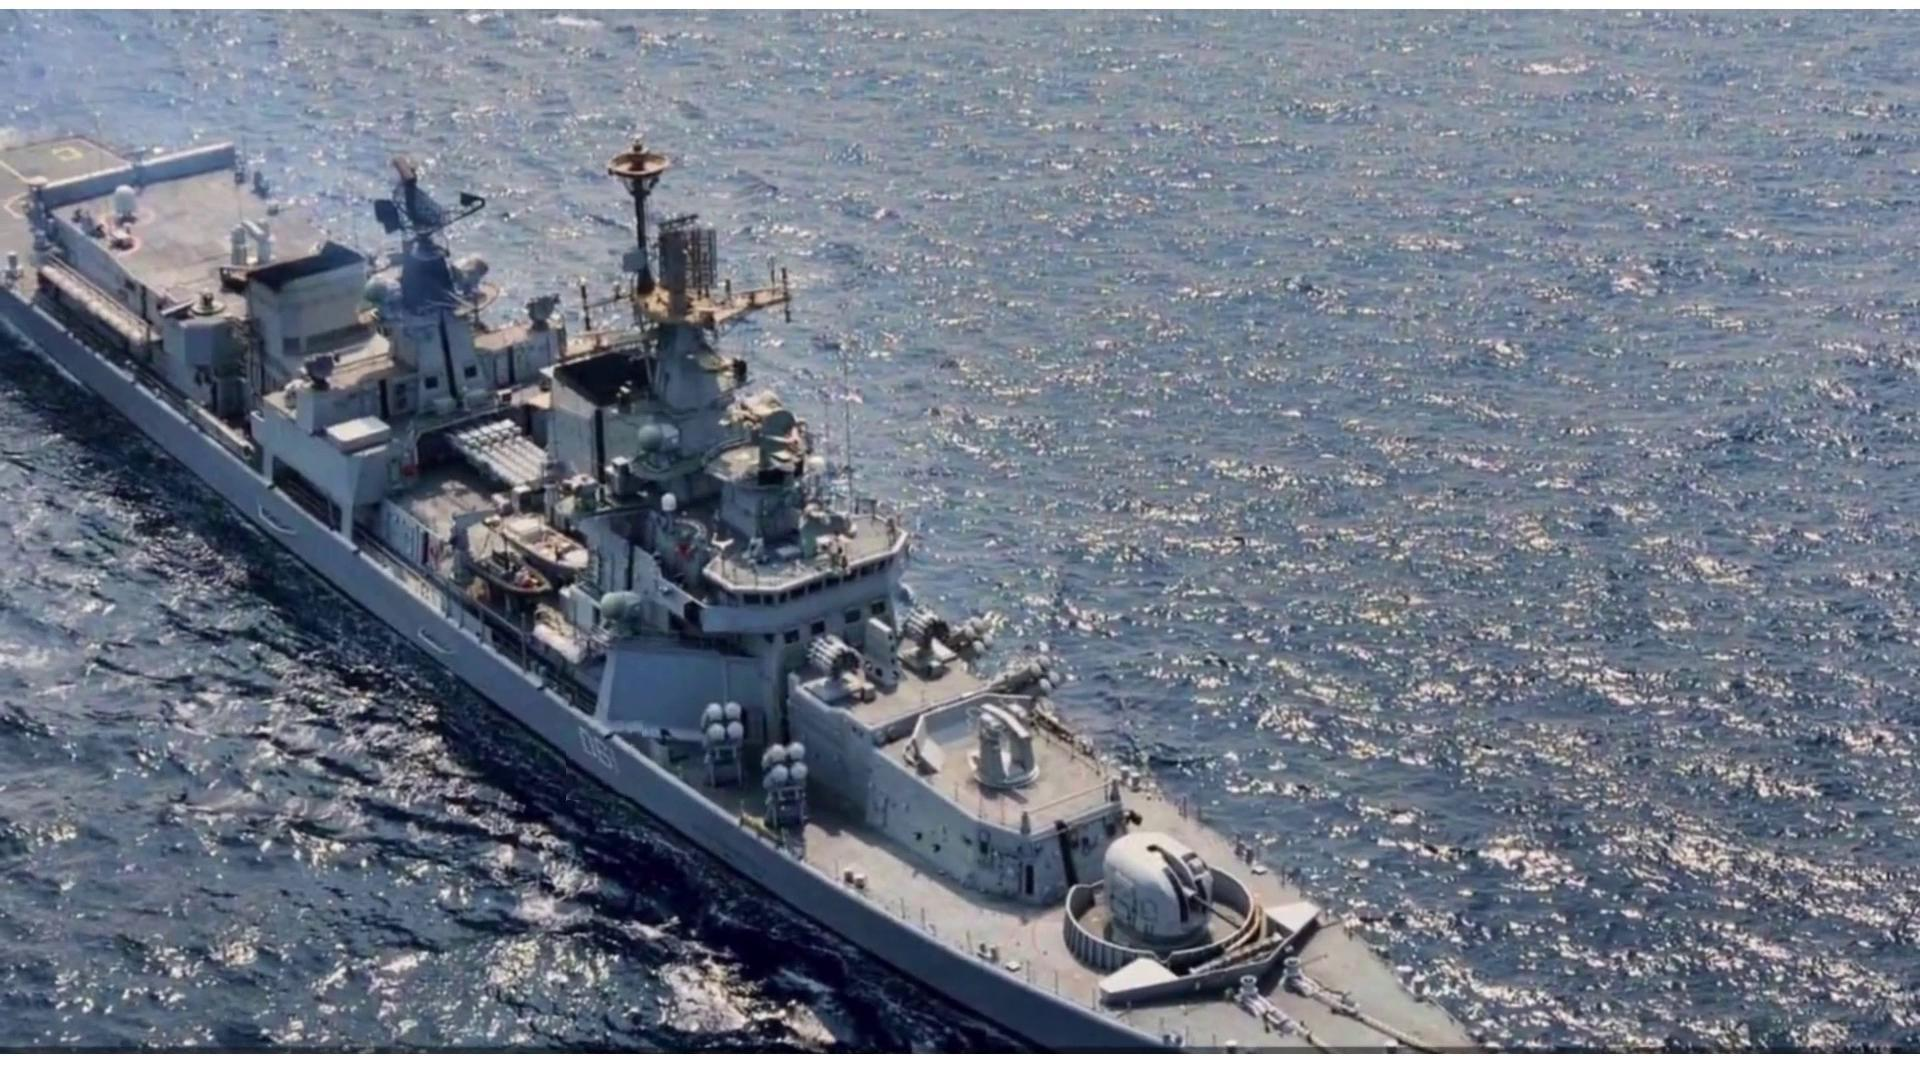OCR: (566, 720, 645, 800)
